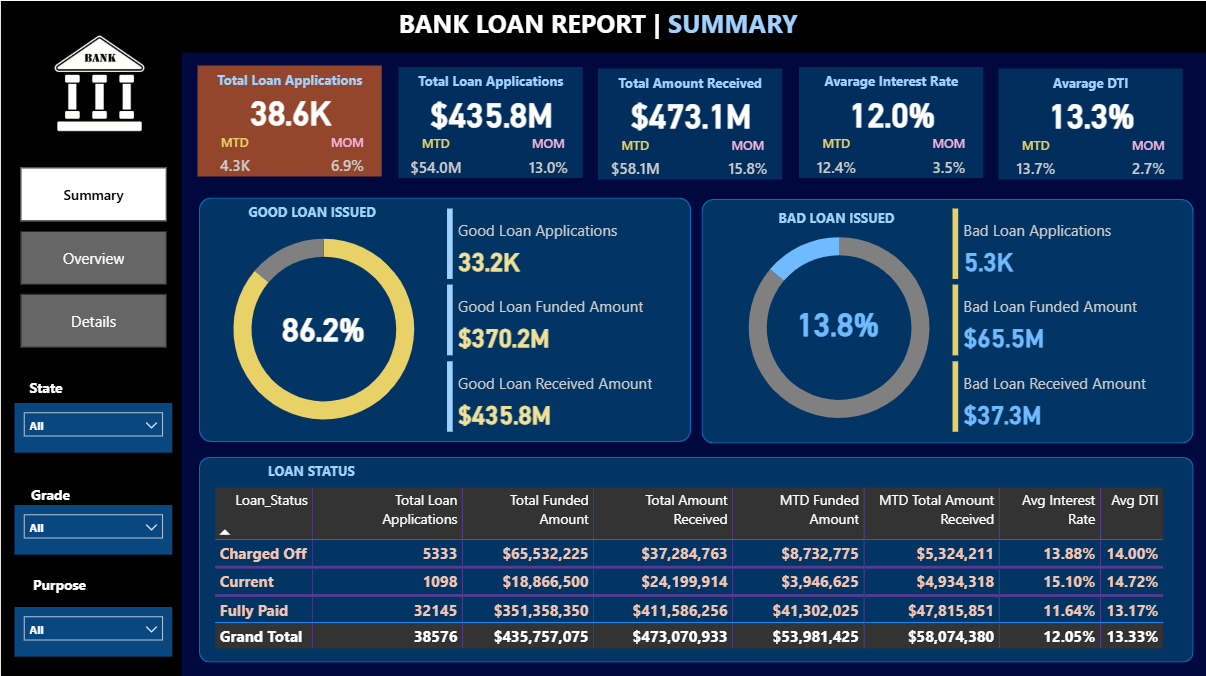

The dashboard page shown, as its layout file describes it:
{"tool":"powerbi","page":{"name":"Summary","canvas":[1280,720],"ordinal":0},"visuals":[{"type":"shape","box":[208.4,68.4,195.6,117.7],"z":0,"group":"g1"},{"type":"shape","box":[421.5,70.3,195.6,117.7],"z":0,"group":"g2"},{"type":"shape","box":[846,70.3,195.6,117.7],"z":0,"group":"g4"},{"type":"shape","box":[633.7,71.7,195.6,117.7],"z":0,"group":"g3"},{"type":"shape","box":[1058.3,72.1,195.6,117.7],"z":0,"group":"g5"},{"type":"shape","box":[210,208.4,521.7,259.3],"z":0},{"type":"shape","box":[0,0,1279.4,54.8],"z":1000},{"type":"card","fields":{"Values":["Bank loan data.Total Loan Applications"]},"box":[207.9,56.7,196.5,117.2],"z":1000,"group":"g1"},{"type":"card","fields":{"Values":["Bank loan data.Total Funded Amount"]},"box":[421,58.6,196.5,117.2],"z":1000,"group":"g2"},{"type":"card","fields":{"Values":["Bank loan data.Avg Interest Rate"]},"box":[845.5,58.6,196.5,117.2],"z":1000,"group":"g4"},{"type":"card","fields":{"Values":["Bank loan data.Total Amount Received"]},"box":[633.2,60,196.5,117.2],"z":1000,"group":"g3"},{"type":"card","fields":{"Values":["Bank loan data.Avg DTI"]},"box":[1057.8,60.4,196.5,117.2],"z":1000,"group":"g5"},{"type":"shape","box":[0,54.8,192,665.2],"z":2000},{"type":"textbox","box":[208.4,68.4,195.6,36.6],"z":2000,"group":"g1"},{"type":"textbox","box":[421.5,70.3,195.6,36.6],"z":2000,"group":"g2"},{"type":"textbox","box":[846,70.3,195.6,36.6],"z":2000,"group":"g4"},{"type":"textbox","box":[633.7,71.7,195.6,36.6],"z":2000,"group":"g3"},{"type":"textbox","box":[1058.3,72.1,195.6,36.6],"z":2000,"group":"g5"},{"type":"card","title":"MTD","fields":{"Values":["Bank loan data.MTD Loan Applications"]},"box":[209.8,139.9,75.6,54.8],"z":3000,"group":"g1"},{"type":"card","title":"MTD","fields":{"Values":["Bank loan data.MTD Funded Amount"]},"box":[422.9,141.8,75.6,54.8],"z":3000,"group":"g2"},{"type":"card","title":"MTD","fields":{"Values":["Bank loan data.MTD Avg Interest RAte"]},"box":[847.4,141.8,75.6,54.8],"z":3000,"group":"g4"},{"type":"card","title":"MTD","fields":{"Values":["Bank loan data.MTD Total Amount Received"]},"box":[635.1,143.2,75.6,54.8],"z":3000,"group":"g3"},{"type":"card","title":"MTD","fields":{"Values":["Bank loan data.MTD Avg DTI"]},"box":[1059.7,143.6,75.6,54.8],"z":3000,"group":"g5"},{"type":"textbox","box":[232.2,208.4,195.6,36.6],"z":3000},{"type":"card","title":"MOM","fields":{"Values":["Bank loan data.MOM Loan Applications"]},"box":[328.8,139.9,75.6,54.8],"z":4000,"group":"g1"},{"type":"card","title":"MOM","fields":{"Values":["Bank loan data.MOM Total Funded Amount"]},"box":[541.9,141.8,75.6,54.8],"z":4000,"group":"g2"},{"type":"card","title":"MOM","fields":{"Values":["Bank loan data.MOM Avg INterest Rate"]},"box":[966.4,141.8,75.6,54.8],"z":4000,"group":"g4"},{"type":"card","title":"MOM","fields":{"Values":["Bank loan data.MOM Total Amount Received"]},"box":[754.1,143.2,75.6,54.8],"z":4000,"group":"g3"},{"type":"card","title":"MOM","fields":{"Values":["Bank loan data.MOM Avg DTI"]},"box":[1178.7,143.6,75.6,54.8],"z":4000,"group":"g5"},{"type":"card","fields":{"Values":["Bank loan data.Good Loan %"]},"box":[245,286.3,192.5,117.7],"z":4000},{"type":"textbox","box":[416.7,0,447,55.7],"z":5000},{"type":"group","id":"g1","title":"Group 1","box":[207.9,56.7,196.5,138],"z":6000},{"type":"group","id":"g2","title":"Group 1","box":[421,58.6,195.7,137.1],"z":7000},{"type":"donutChart","fields":{"Category":["Bank loan data.Good vs Bad Loan"],"Y":["Bank loan data.Total Loan Applications"]},"box":[167,222.7,349.9,249.7],"z":8000},{"type":"group","id":"g3","title":"Group 1","box":[633.2,60,195.7,137.1],"z":9000},{"type":"group","id":"g4","title":"Group 1","box":[845.5,58.6,195.7,137.1],"z":10000},{"type":"group","id":"g5","title":"Group 1","box":[1057.8,60.4,195.6,136.8],"z":11000},{"type":"shape","box":[742.8,210,521.7,259.3],"z":12000},{"type":"cardVisual","fields":{"Data":["Bank loan data.Good Loan Applications","Bank loan data.Good Loan Funded Amount","Bank loan data.Good Loan Received Amount"]},"box":[467.5,215.1,244.2,249.1],"z":13000},{"type":"donutChart","fields":{"Category":["Bank loan data.Good vs Bad Loan"],"Y":["Bank loan data.Total Loan Applications"]},"box":[712.6,221.1,351.5,249.7],"z":14000},{"type":"textbox","box":[750.8,214.7,270.4,36.6],"z":15000},{"type":"card","fields":{"Values":["Bank loan data.Bad Loan %"]},"box":[790.5,281.5,192.5,117.7],"z":16000},{"type":"cardVisual","fields":{"Data":["Bank loan data.Bad Loan Applications","Bank loan data.Bad Loan Funded Amount","Bank loan data.Bad Loan Received Amount"]},"box":[1003.7,214.7,245,248.1],"z":17000},{"type":"shape","box":[210,483.5,1054.6,217.9],"z":18000},{"type":"tableEx","fields":{"Values":["Bank loan data.loan_status","Bank loan data.Total Loan Applications","Bank loan data.Total Funded Amount","Bank loan data.Total Amount Received","Bank loan data.MTD Funded Amount","Bank loan data.MTD Total Amount Received","Bank loan data.Avg Interest Rate","Bank loan data.Avg DTI"]},"box":[221.1,510.6,1033.9,184.5],"z":19000},{"type":"textbox","box":[221.1,483.5,216.3,39.8],"z":20000},{"type":"slicer","fields":{"Values":["Bank loan data.address_state"]},"box":[14.3,426.3,167,52.5],"z":21000},{"type":"textbox","box":[0,395,95.4,44.5],"z":22000},{"type":"slicer","fields":{"Values":["Bank loan data.grade"]},"box":[14.3,534.4,167,52.5],"z":23000},{"type":"textbox","box":[9.5,507.8,85.9,38.2],"z":24000},{"type":"slicer","fields":{"Values":["Bank loan data.purpose"]},"box":[14.3,642.6,167,52.5],"z":25000},{"type":"textbox","box":[19.1,602.8,85.9,39.8],"z":26000},{"type":"image","box":[31.8,12.7,144.7,149.5],"z":27000},{"type":"pageNavigator","box":[20.7,176.6,155.9,192.5],"z":28000}]}

Visuals, with their boxes in screenshot pixels (x1, y1, x2, y2), scaled from the page's 1280x720 canvas onto the 1206x676 screenshot:
shape: (196,64,381,175)
shape: (397,66,581,177)
shape: (797,66,981,177)
shape: (597,67,781,178)
shape: (997,68,1181,178)
shape: (198,196,689,439)
shape: (0,0,1205,51)
card - Bank loan data.Total Loan Applications: (196,53,381,163)
card - Bank loan data.Total Funded Amount: (397,55,582,165)
card - Bank loan data.Avg Interest Rate: (797,55,982,165)
card - Bank loan data.Total Amount Received: (597,56,782,166)
card - Bank loan data.Avg DTI: (997,57,1182,167)
shape: (0,51,181,675)
textbox: (196,64,381,99)
textbox: (397,66,581,100)
textbox: (797,66,981,100)
textbox: (597,67,781,102)
textbox: (997,68,1181,102)
"MTD" card: (198,131,269,183)
"MTD" card: (398,133,470,185)
"MTD" card: (798,133,870,185)
"MTD" card: (598,134,670,186)
"MTD" card: (998,135,1070,186)
textbox: (219,196,403,230)
"MOM" card: (310,131,381,183)
"MOM" card: (511,133,582,185)
"MOM" card: (911,133,982,185)
"MOM" card: (711,134,782,186)
"MOM" card: (1111,135,1182,186)
card - Bank loan data.Good Loan %: (231,269,412,379)
textbox: (393,0,814,52)
"Group 1" group: (196,53,381,183)
"Group 1" group: (397,55,581,184)
donutChart - Bank loan data.Good vs Bad Loan x Bank loan data.Total Loan Applications: (157,209,487,444)
"Group 1" group: (597,56,781,185)
"Group 1" group: (797,55,981,184)
"Group 1" group: (997,57,1181,185)
shape: (700,197,1191,441)
cardVisual - Bank loan data.Good Loan Applications x Bank loan data.Good Loan Funded Amount: (440,202,671,436)
donutChart - Bank loan data.Good vs Bad Loan x Bank loan data.Total Loan Applications: (671,208,1003,442)
textbox: (707,202,962,236)
card - Bank loan data.Bad Loan %: (745,264,926,375)
cardVisual - Bank loan data.Bad Loan Applications x Bank loan data.Bad Loan Funded Amount: (946,202,1177,435)
shape: (198,454,1191,659)
tableEx - Bank loan data.loan_status x Bank loan data.Total Loan Applications: (208,479,1182,653)
textbox: (208,454,412,491)
slicer - Bank loan data.address_state: (13,400,171,450)
textbox: (0,371,90,413)
slicer - Bank loan data.grade: (13,502,171,551)
textbox: (9,477,90,513)
slicer - Bank loan data.purpose: (13,603,171,653)
textbox: (18,566,99,603)
image: (30,12,166,152)
pageNavigator: (20,166,166,347)
